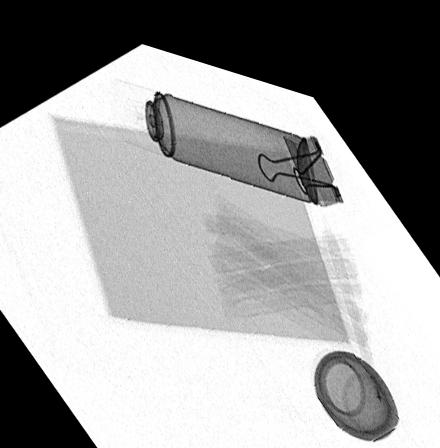Sprayer: (110, 71, 318, 184)
